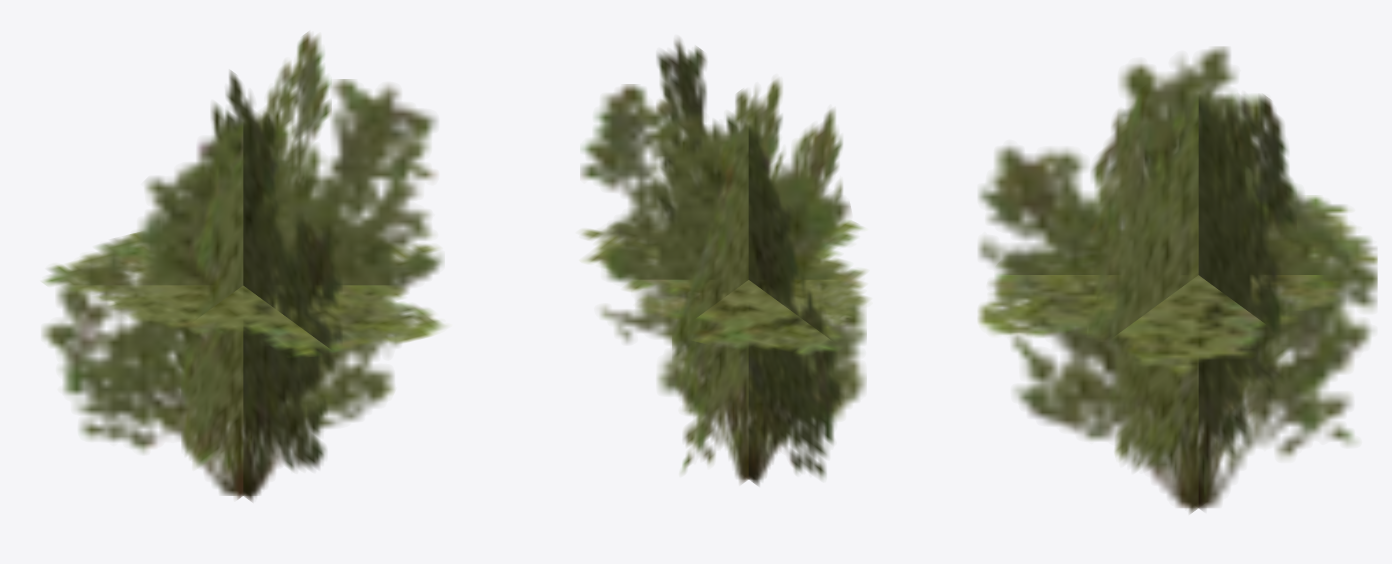
Rendered from tbush1_far.glb.
3 views of the same model, side by side, from view 1: azimuth 30°, elevation 25°; view 2: azimuth 150°, elevation 25°; view 3: azimuth 270°, elevation 25° (orthographic). The views are drawn at different scales.
Parts seen in each view (by area): view 1: prefab; view 2: prefab; view 3: prefab.
Part boxes in pixels (x1=…): prefab: x1=42, y1=32, x2=445, y2=501; prefab: x1=580, y1=39, x2=868, y2=485; prefab: x1=978, y1=47, x2=1377, y2=513.
Size of the model in its own units: 2.14 by 2.51 by 1.97.
1 material, 1 textured.
